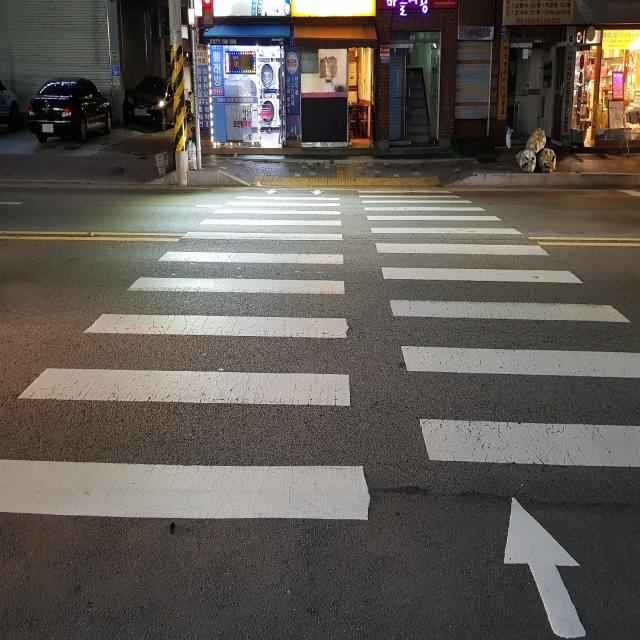빨간불: (203, 0, 214, 24)
횡단보도: (0, 186, 640, 639)
